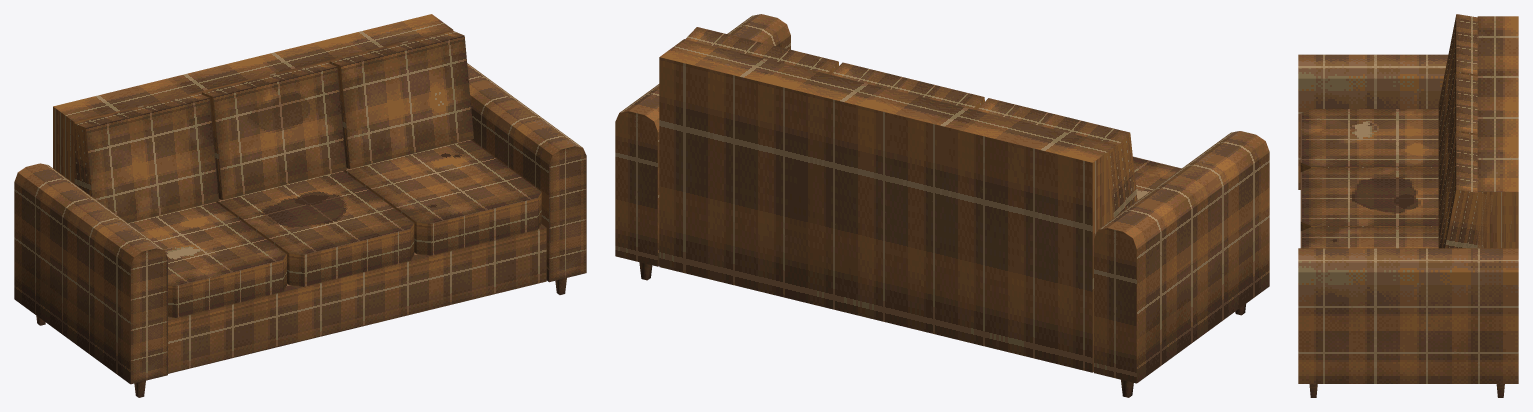
Rendered from sofa_old.glb.
The picture shows the model from 3 angles, left to right: view 1: azimuth 30°, elevation 25°; view 2: azimuth 150°, elevation 25°; view 3: azimuth 270°, elevation 25°; orthographic projection. The views are drawn at different scales.
Visible parts, largest first — view 1: sofa_old; view 2: sofa_old; view 3: sofa_old.
Boxes of the visible parts, x1=… form: sofa_old: x1=14, y1=14, x2=586, y2=397; sofa_old: x1=615, y1=14, x2=1269, y2=397; sofa_old: x1=1298, y1=14, x2=1518, y2=397.
Size of the model in its own units: 1.95 by 0.85 by 0.86.
Materials: 1 (1 with a texture image).
